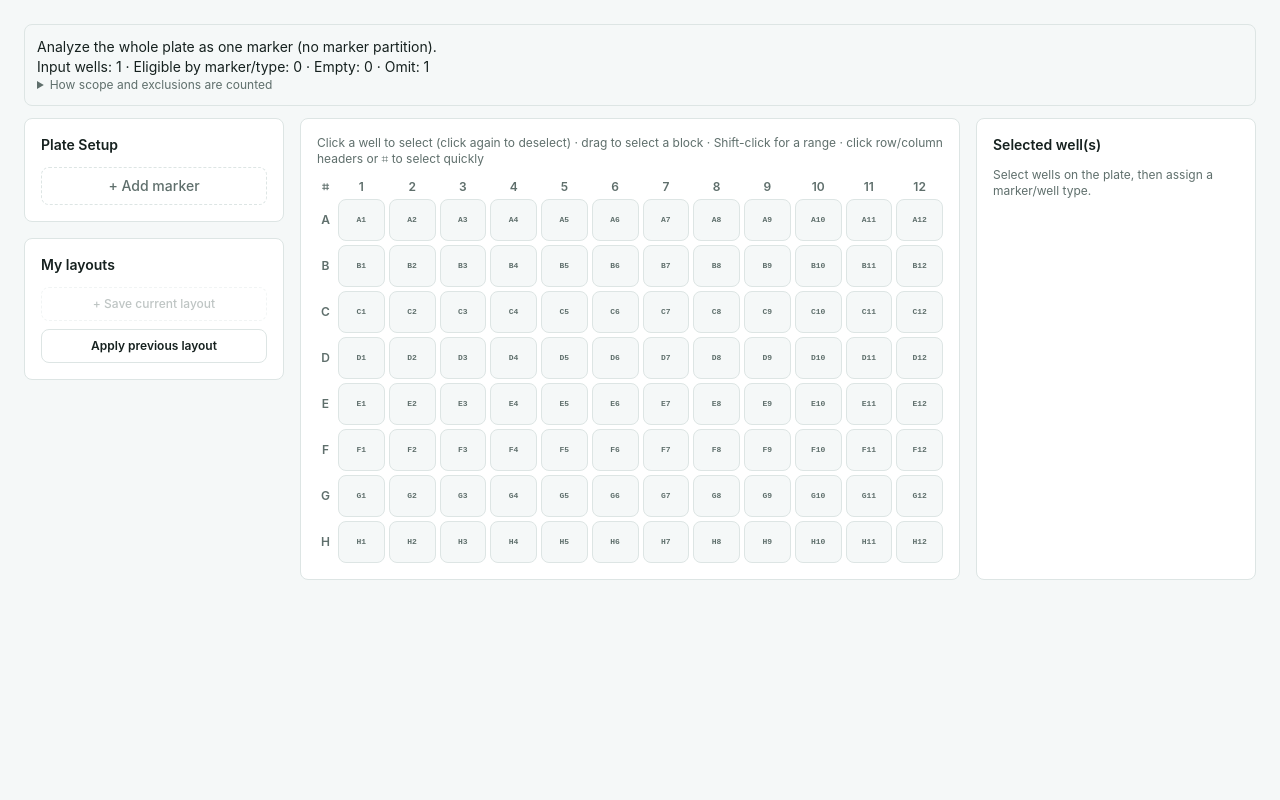
Test: keeps Omit focusable and restores its type through the shared command
The width and height of the screenshot is (1280, 800).
Expected: the text with test id "analysis-scope-counts" shows "Omit: 1", [37,58,429,75]
Press the mouse on the button with test id "well-A1": (361, 220) [338,199,385,241]
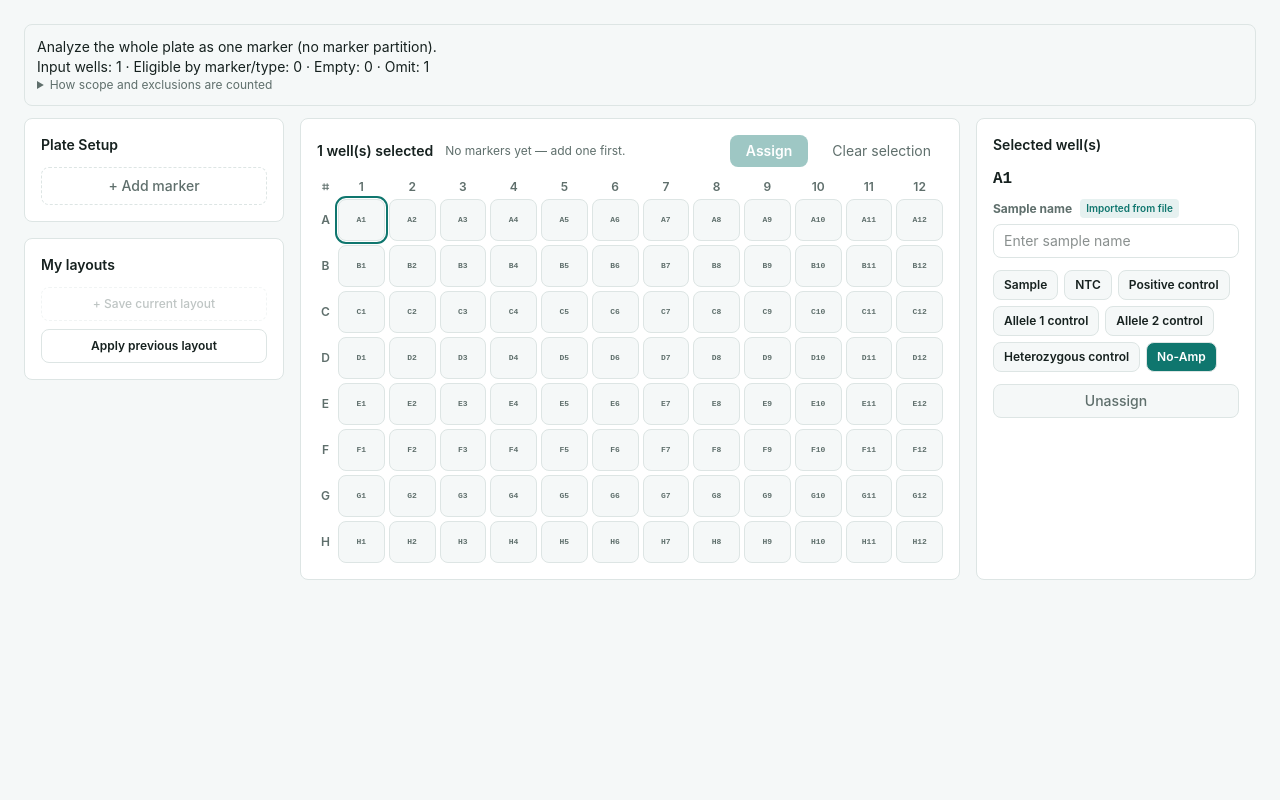
Click the button with test id "well-type-sample": (1026, 285) [993,270,1058,300]
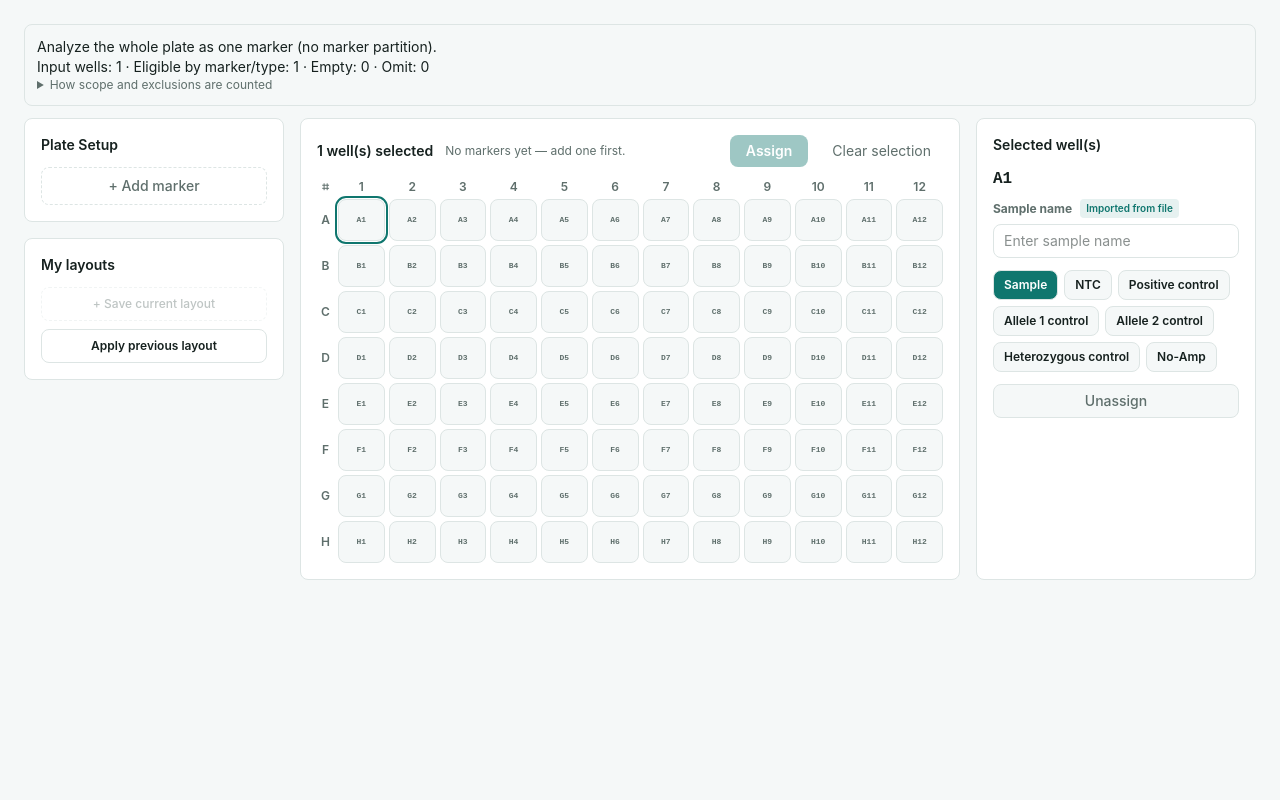
Expected: the text with test id "analysis-scope-counts" shows "Eligible by marker/type: 1 · Empty: 0 · Omit: 0", [37,58,429,75]
